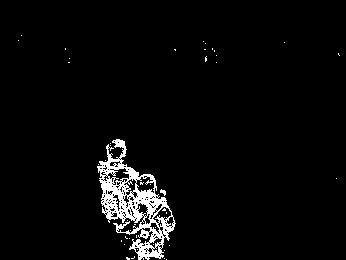person: (97, 135, 137, 260), (123, 171, 178, 260)
